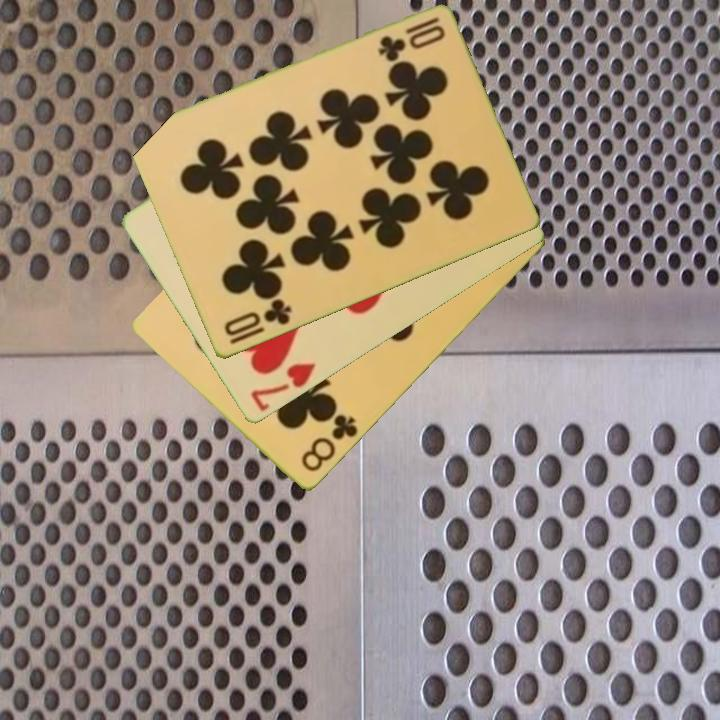10c: (374, 14, 448, 64), (220, 296, 295, 340)
7h: (247, 359, 319, 415)
8c: (297, 411, 361, 475)
